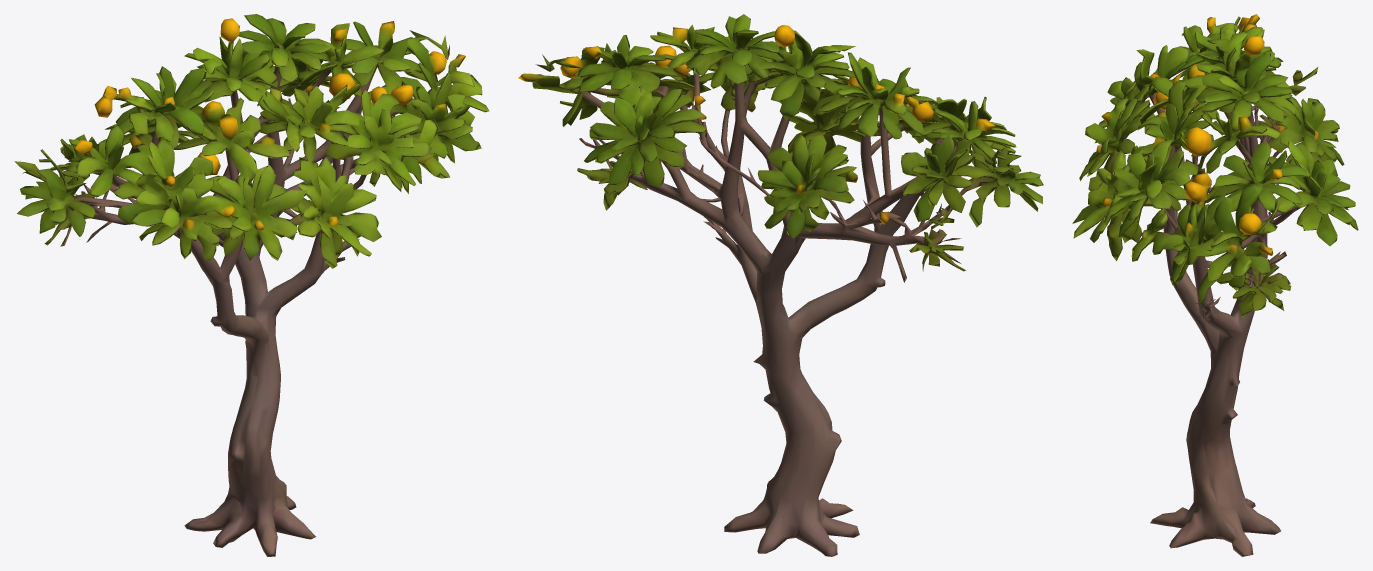
Rendered from acacia.glb.
The picture shows the model from 3 angles, left to right: view 1: azimuth 30°, elevation 25°; view 2: azimuth 150°, elevation 25°; view 3: azimuth 270°, elevation 25°; orthographic projection. The views are drawn at different scales.
Visible parts, largest first — view 1: tripo_node_e8b0f025-a97b-4cea-a4ee-b00343866051; view 2: tripo_node_e8b0f025-a97b-4cea-a4ee-b00343866051; view 3: tripo_node_e8b0f025-a97b-4cea-a4ee-b00343866051.
Boxes of the visible parts, x1,y1,x2,y2 form: tripo_node_e8b0f025-a97b-4cea-a4ee-b00343866051: (14, 14, 489, 556); tripo_node_e8b0f025-a97b-4cea-a4ee-b00343866051: (518, 14, 1043, 556); tripo_node_e8b0f025-a97b-4cea-a4ee-b00343866051: (1072, 14, 1358, 556).
Bounding box in the file's own units: 0.9987 × 1 × 0.526.
1 material, 1 textured.
